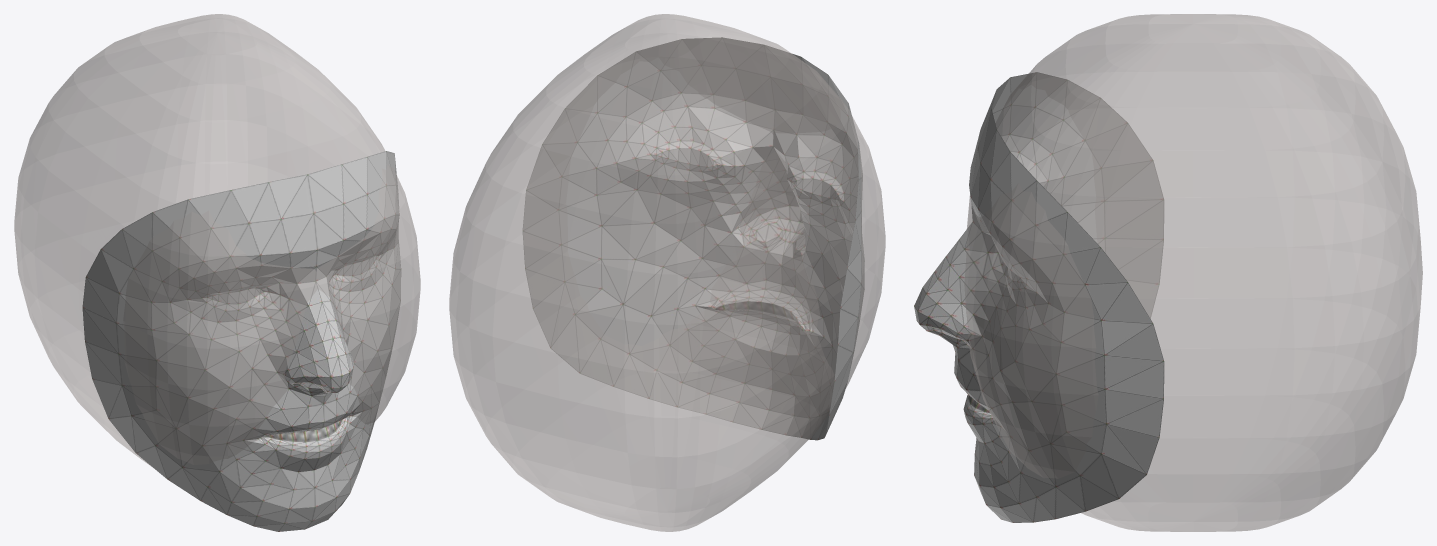
Rendered from kepala_standar.glb.
The picture shows the model from 3 angles, left to right: view 1: azimuth 30°, elevation 25°; view 2: azimuth 150°, elevation 25°; view 3: azimuth 270°, elevation 25°; orthographic projection. The views are drawn at different scales.
Bounding box in the file's own units: 15.49 × 22 × 20.39.
2 materials, 1 textured.
